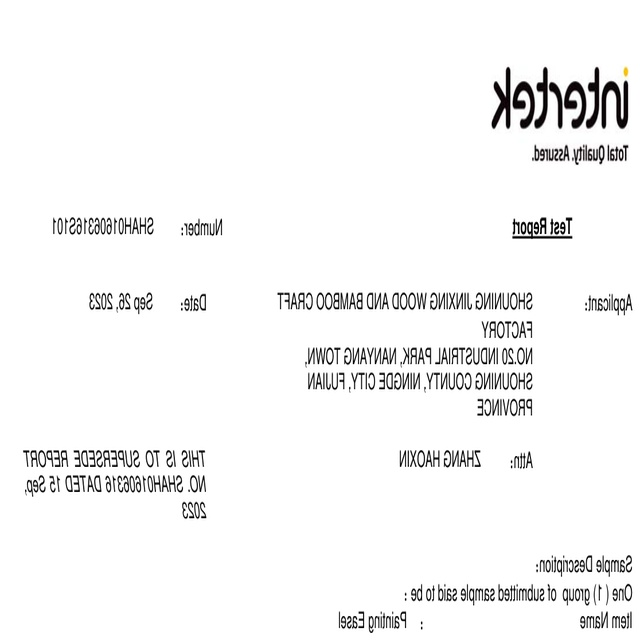intertek: (488, 58, 636, 168)
